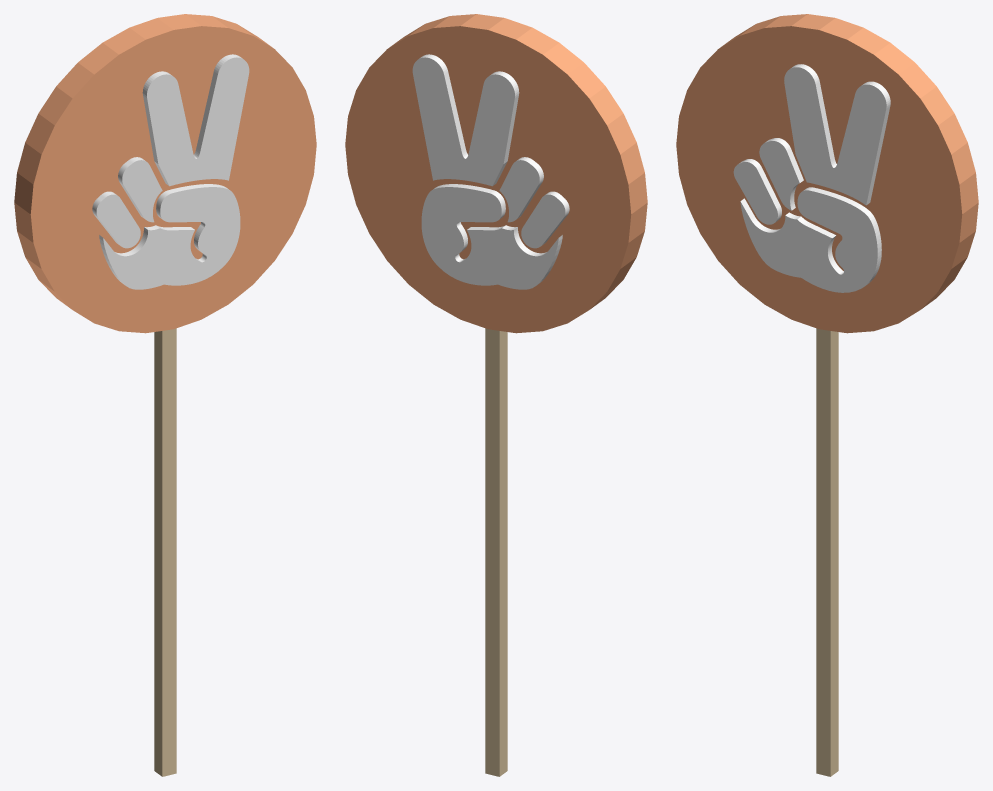
The model's file is scissor.fbx.
3 renders of one model, left to right at view 1: azimuth 30°, elevation 25°; view 2: azimuth 150°, elevation 25°; view 3: azimuth 330°, elevation 25°, orthographic.
Parts seen in each view (by area): view 1: 円柱, 立方体, path30, path22, path26, path34; view 2: 円柱, 立方体, path30, path22, path26, path34; view 3: 円柱, 立方体, path30, path22, path26, path34.
Boxes of the visible parts, <box> form: 円柱: <box>14,14,316,333</box>; 立方体: <box>154,328,176,776</box>; path30: <box>99,184,240,289</box>; path22: <box>142,54,249,186</box>; path26: <box>118,157,162,222</box>; path34: <box>92,191,140,248</box>; 円柱: <box>345,14,647,333</box>; 立方体: <box>485,328,507,776</box>; path30: <box>421,184,562,289</box>; path22: <box>412,54,519,186</box>; path26: <box>499,157,543,222</box>; path34: <box>521,191,569,248</box>; 円柱: <box>676,14,978,333</box>; 立方体: <box>816,328,838,776</box>; path30: <box>740,187,881,292</box>; path22: <box>784,64,890,205</box>; path26: <box>759,138,803,210</box>; path34: <box>733,159,781,224</box>.
Bounding box in the file's own units: 20 × 50 × 3.
